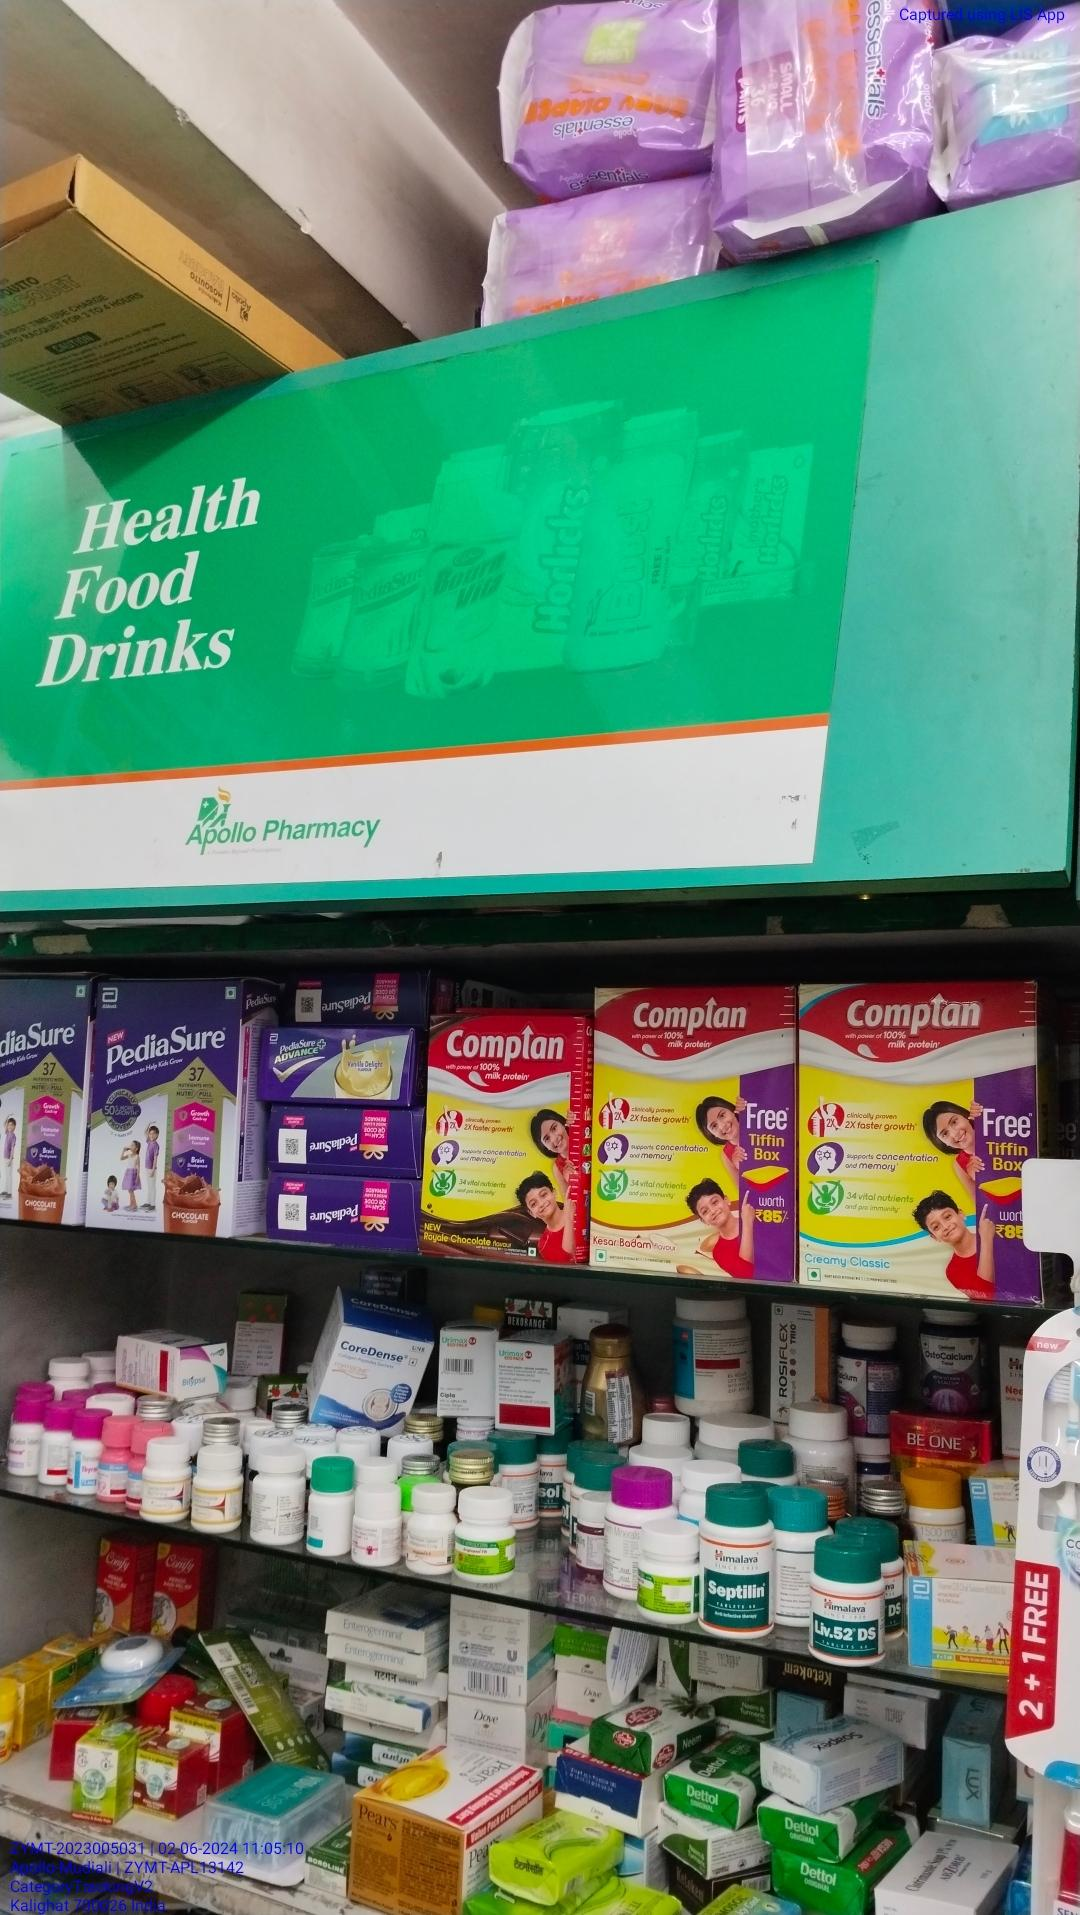PEDIASURE_CHOCOLATE_500_G_PACK: (93, 981, 237, 1235), (3, 977, 83, 1224)
